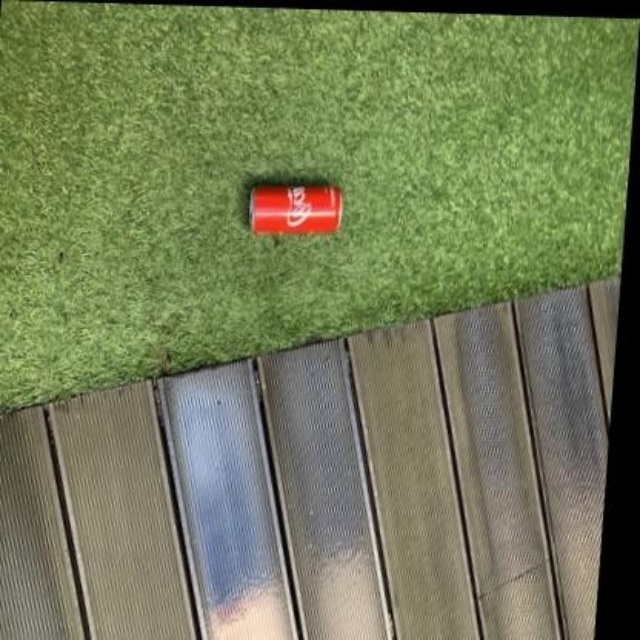trash: (249, 186, 340, 234)
